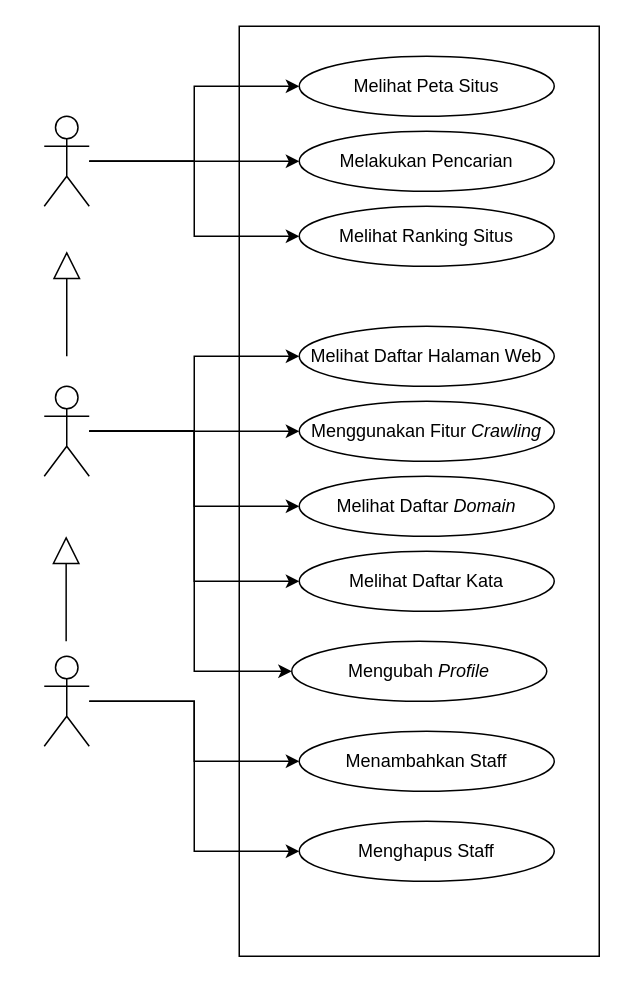
Image size: 627x983. Some labels were removed from this diagram. The shapes that lost their labels are listed below. From the top down, each one's centre as x and y in pixels, then its label:
At pixel 66 160: "Pengguna".
At pixel 66 430: "Staff".
At pixel 66 700: "Root".
